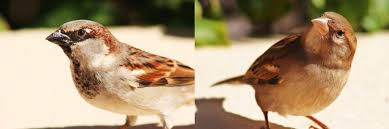home_sparrow: (205, 5, 362, 129), (30, 14, 196, 129)
